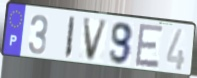3: (28, 13, 49, 56)
4: (164, 28, 186, 73)
9: (108, 21, 136, 67)
E: (134, 22, 165, 70)
I: (63, 15, 77, 61)
V: (82, 18, 110, 63)
